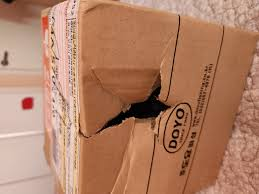damaged package: (83, 71, 173, 139)
